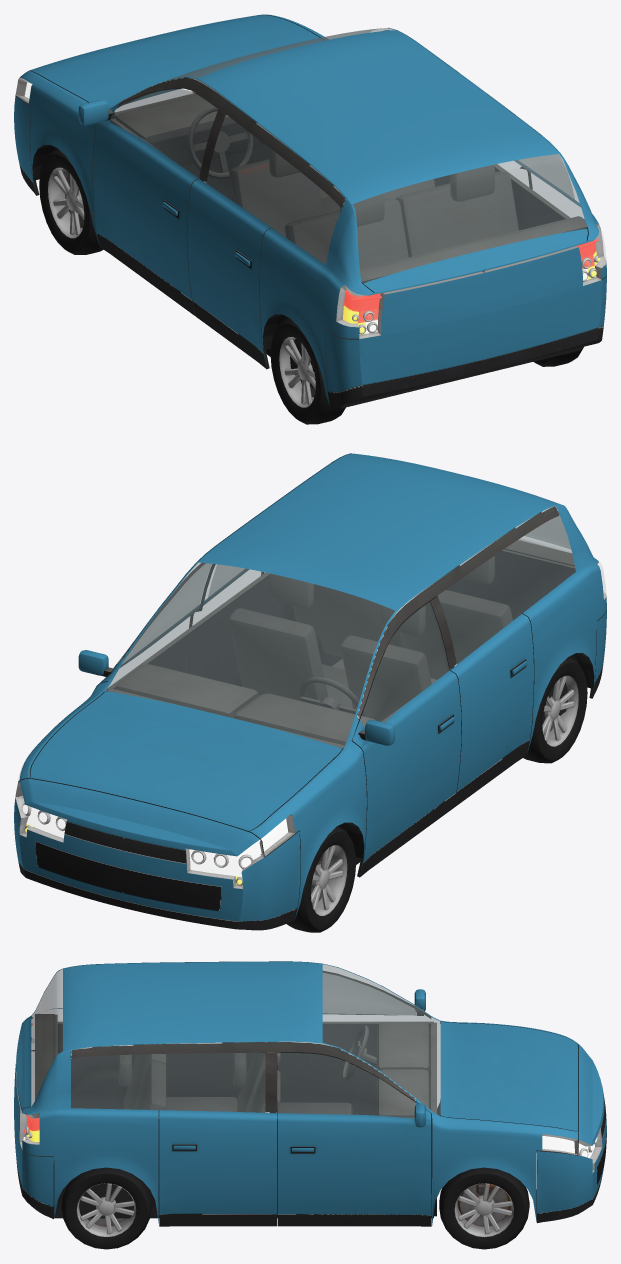
File: compact_hatch.glb
The picture shows the model from 3 angles, top to bottom: view 1: azimuth 30°, elevation 25°; view 2: azimuth 150°, elevation 25°; view 3: azimuth 270°, elevation 25°; orthographic projection. The views are drawn at different scales.
Visible parts, largest first — view 1: lod0, door_fl, window_rear, bumper_r, hood, window_l, wheel_rl_mesh, wheel_fl_mesh, trunk, steering_wheel_mesh, bumper_f, window_front (+1 smaller); view 2: lod0, window_front, bumper_f, hood, door_fl, window_l, wheel_fl_mesh, wheel_rl_mesh, door_fr, steering_wheel_mesh, window_rear, bumper_r (+1 smaller); view 3: lod0, door_fr, hood, window_r, window_front, bumper_f, wheel_fr, wheel_rr, door_fl, window_rear, bumper_r, trunk (+1 smaller).
Part boxes in pixels (x1,y1,x2,y2): lod0: [15, 14, 606, 408]; door_fl: [78, 89, 219, 315]; window_rear: [353, 154, 587, 283]; bumper_r: [325, 275, 606, 407]; hood: [30, 15, 323, 109]; window_l: [206, 115, 341, 264]; wheel_rl_mesh: [270, 318, 345, 424]; wheel_fl_mesh: [39, 148, 103, 254]; trunk: [363, 229, 588, 292]; steering_wheel_mesh: [187, 106, 253, 178]; bumper_f: [14, 95, 39, 195]; window_front: [125, 28, 394, 104]; lod0: [15, 453, 606, 919]; window_front: [106, 562, 394, 748]; bumper_f: [14, 778, 300, 930]; hood: [30, 691, 342, 832]; door_fl: [352, 601, 461, 877]; window_l: [438, 516, 575, 664]; wheel_fl_mesh: [286, 826, 355, 932]; wheel_rl_mesh: [523, 657, 587, 763]; door_fr: [78, 563, 211, 684]; steering_wheel_mesh: [299, 677, 364, 716]; window_rear: [525, 499, 570, 548]; bumper_r: [589, 610, 606, 698]; lod0: [14, 961, 578, 1226]; door_fr: [277, 1052, 431, 1226]; hood: [440, 1021, 577, 1131]; window_r: [71, 1052, 265, 1112]; window_front: [322, 964, 440, 1115]; bumper_f: [536, 1044, 606, 1223]; wheel_fr: [439, 1167, 529, 1249]; wheel_rr: [61, 1167, 151, 1249]; door_fl: [322, 970, 431, 1018]; window_rear: [31, 969, 62, 1105]; bumper_r: [14, 1050, 54, 1219]; trunk: [16, 1017, 31, 1109].
Size of what is drawn, in the model's own units: 1.96 by 1.49 by 3.94.
Materials: 10 (8 with a texture image).
